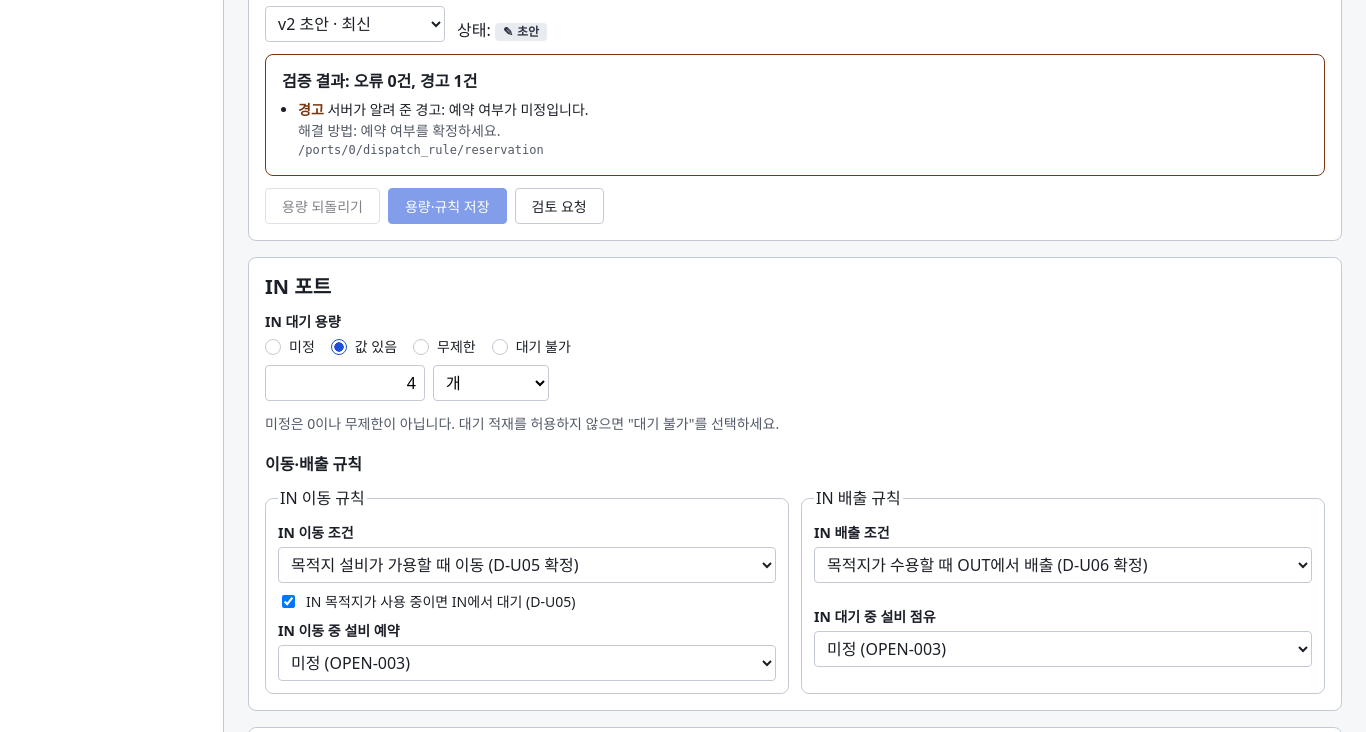
용량·규칙 저장 (PATCH /asset-revisions/{id}) › 저장 중에는 버튼이 비활성이고 연속 클릭해도 한 번만 보낸다
(page scrolled)
Check: the dropdown labelled "IN 이동 조건" is shown, box [278,547,776,583]
Clear the field named "IN 대기 용량 값". click: (345, 383)
box: [265,365,425,401]
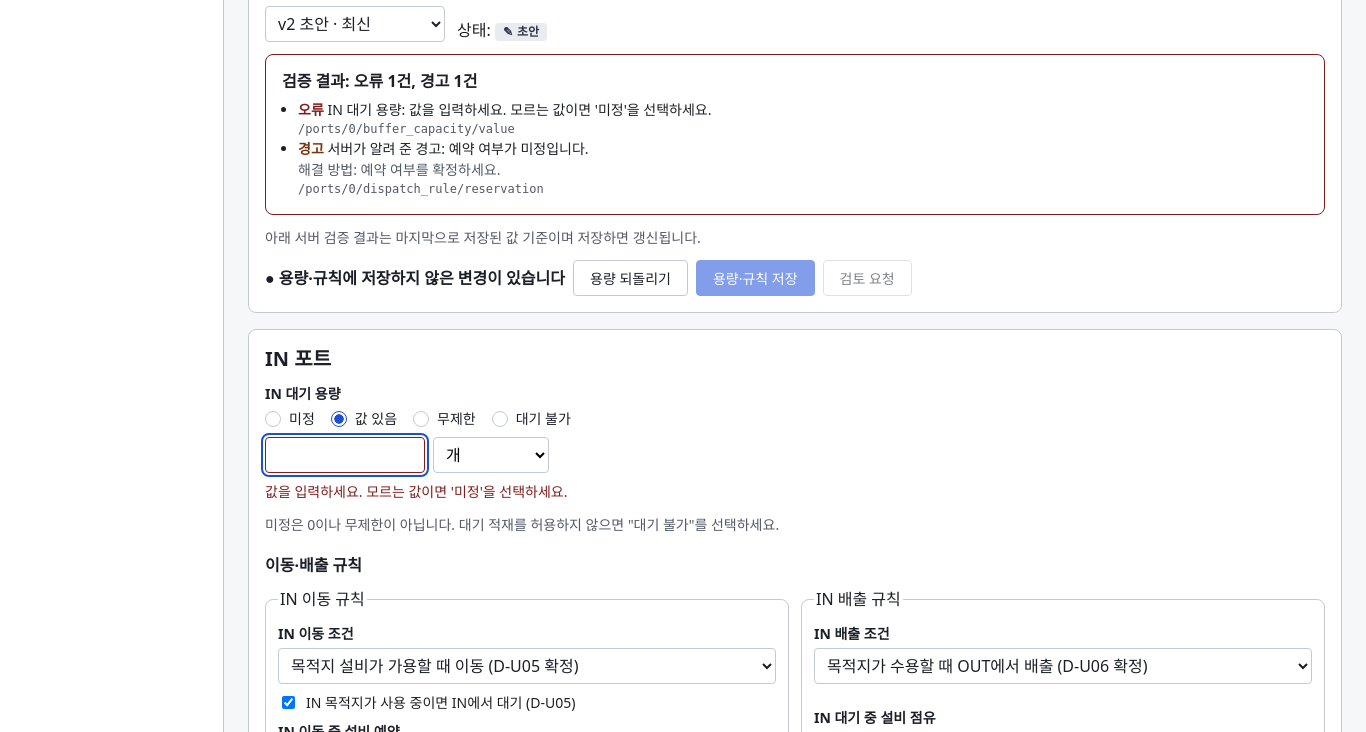
Type "9" into the field named "IN 대기 용량 값". click: (345, 455)
box: [265,437,425,473]
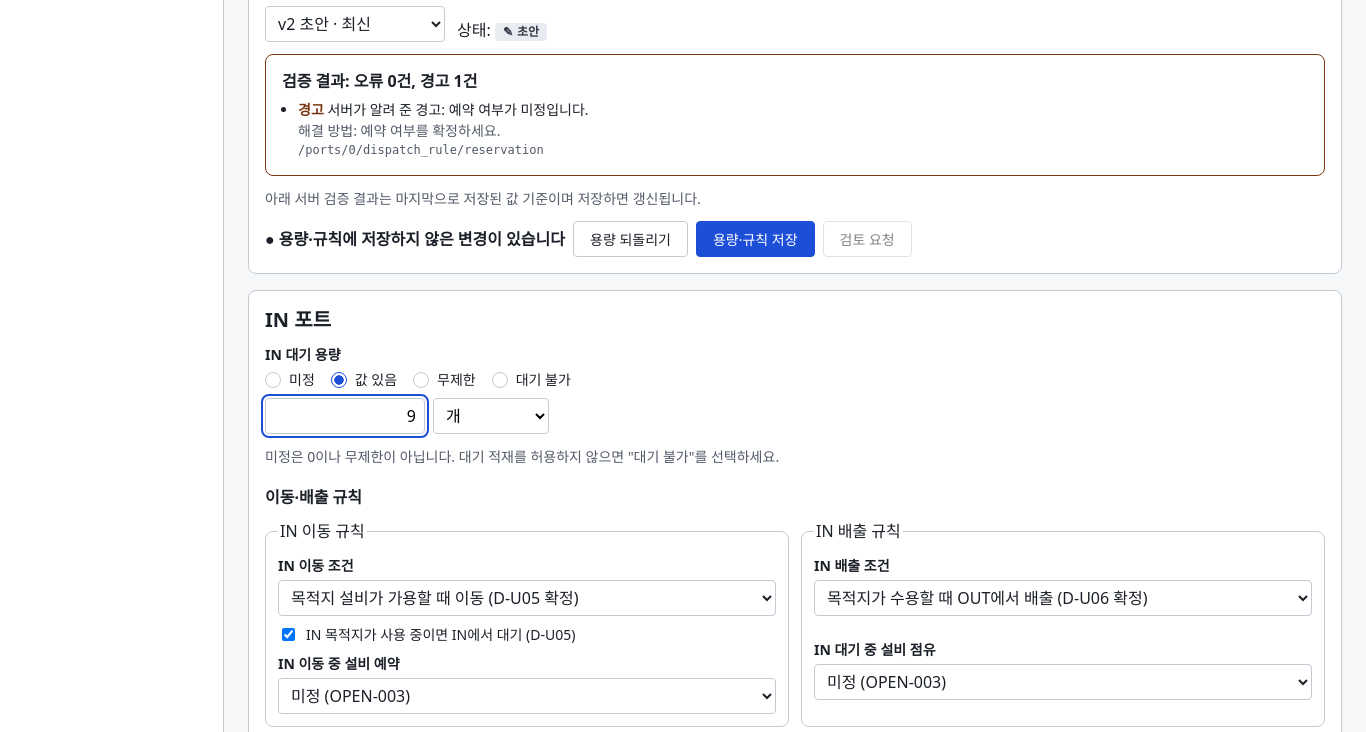
Double-click the button "용량·규칙 저장" at (755, 239), box [696,221,815,257]
(page scrolled)
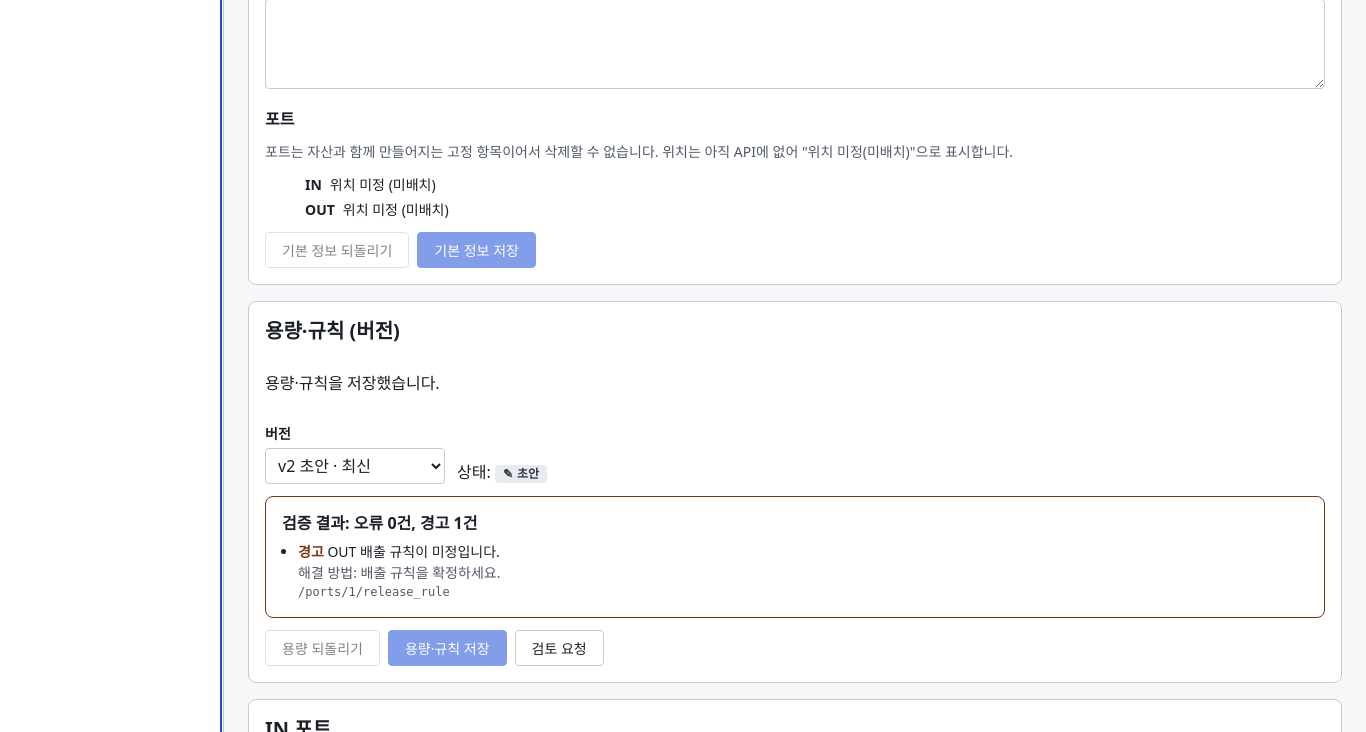
Check: the button named "저장 중…" is disabled, box [388,630,507,666]
Check: the text "용량·규칙을 저장했습니다." is shown, box [265,372,440,394]
